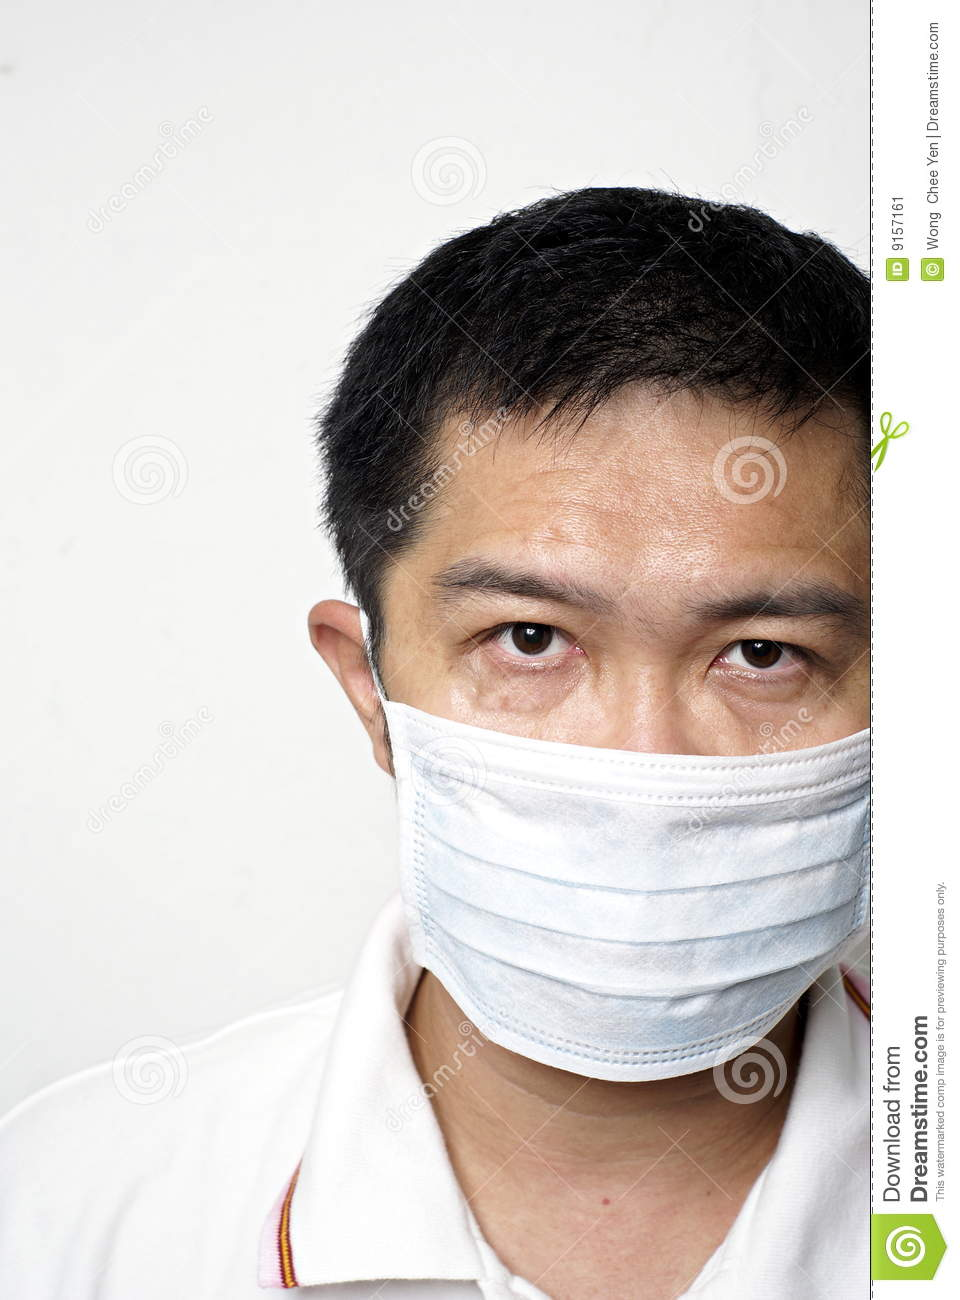mask: (370, 693, 872, 1097)
